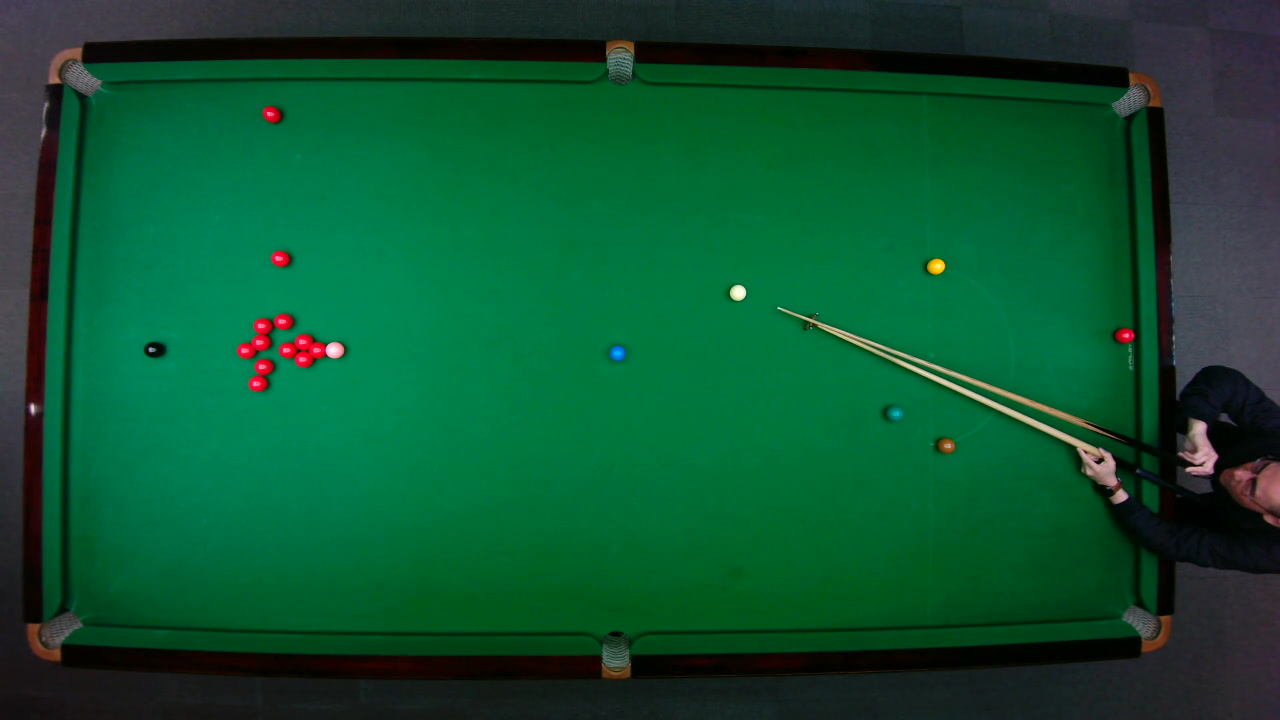bag: (25, 609, 83, 661), (45, 46, 101, 96), (1119, 603, 1171, 652), (1108, 71, 1161, 118), (600, 629, 630, 680), (605, 38, 633, 85)
black: (142, 340, 163, 358)
blue: (608, 344, 626, 361)
brown: (936, 437, 955, 453)
cue: (773, 304, 1198, 478)
green: (884, 404, 903, 421)
pink: (323, 340, 345, 359)
red: (260, 104, 282, 123), (234, 340, 256, 358), (252, 357, 274, 375), (246, 374, 268, 392), (292, 350, 314, 368), (251, 316, 272, 334), (269, 249, 290, 267), (1113, 326, 1135, 343), (277, 340, 297, 358), (272, 312, 293, 329), (249, 333, 270, 350), (293, 332, 313, 349), (308, 340, 325, 359)
white: (727, 283, 746, 301)
yellow: (925, 257, 946, 274)
zone: (925, 268, 1014, 448)
